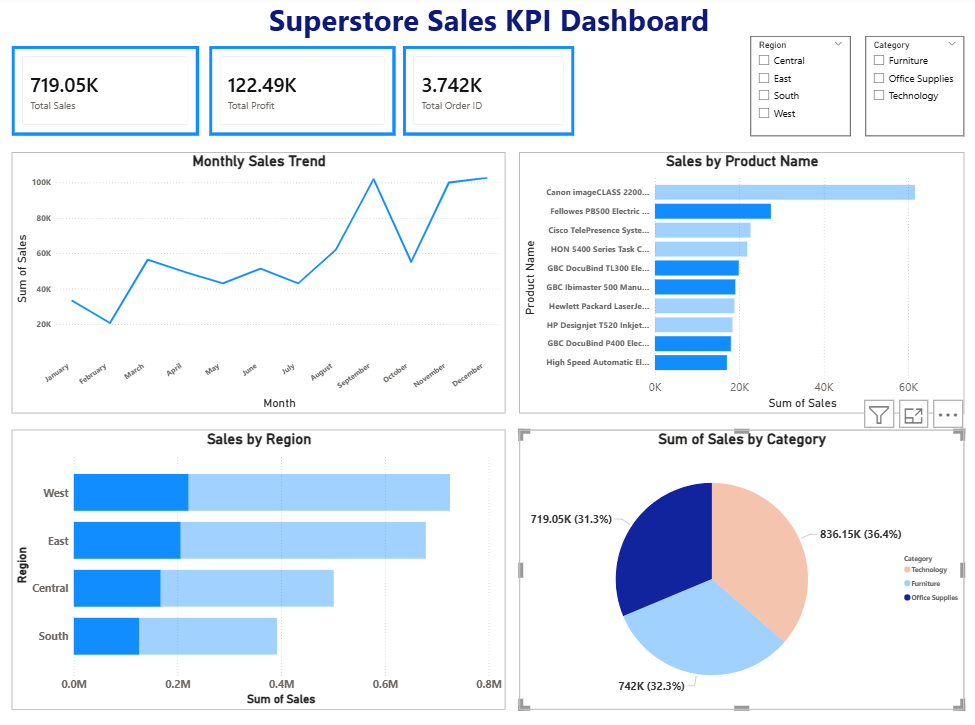

The page's visual inventory and layout, read from the dashboard file:
{"tool":"powerbi","page":{"name":"Page 1","canvas":[1600,1200],"ordinal":0},"visuals":[{"type":"cardVisual","title":"sales Card","fields":{"Data":["Sum(Sample - Superstore.Sales)"]},"box":[22.4,81.5,305.7,146.7],"z":0},{"type":"cardVisual","fields":{"Data":["Sum(Sample - Superstore.Profit)"]},"box":[344.4,81.5,303.7,146.7],"z":1000},{"type":"cardVisual","fields":{"Data":["Count(Sample - Superstore.Order ID)"]},"box":[660.3,81.5,279.2,146.7],"z":2000},{"type":"lineChart","title":" Monthly Sales Trend","fields":{"Y":["Sum(Sample - Superstore.Sales)"],"Category":["Sample - Superstore.Order Date.Variation.Date Hierarchy.Year","Sample - Superstore.Order Date.Variation.Date Hierarchy.Month"]},"box":[22.4,254.8,805,426],"z":3000},{"type":"clusteredBarChart","title":"Sales by Region","fields":{"Category":["Sample - Superstore.Region"],"Y":["Sum(Sample - Superstore.Sales)"]},"box":[22.4,707.2,805,456.5],"z":4000},{"type":"pieChart","fields":{"Category":["Sample - Superstore.Category"],"Y":["Sum(Sample - Superstore.Sales)"]},"box":[849.9,707.2,725.5,456.5],"z":5000},{"type":"clusteredBarChart","title":"Sales by Product Name","fields":{"Category":["Sample - Superstore.Product Name"],"Y":["Sum(Sample - Superstore.Sales)"]},"box":[849.9,254.8,725.5,426],"z":7000},{"type":"slicer","fields":{"Values":["Sample - Superstore.Category"]},"box":[1414.4,65.2,161,163],"z":8000},{"type":"textbox","box":[339.4,0,921.2,81.5],"z":9000},{"type":"slicer","fields":{"Values":["Sample - Superstore.Region"]},"box":[1226.9,65.2,163,163],"z":9001}]}

Visuals, with their boxes in screenshot pixels (x1, y1, x2, y2), scaled from the page's 1600x1200 canvas onto the 975x725 screenshot:
"sales Card" cardVisual: bbox=(14, 49, 200, 138)
cardVisual - Sum(Sample - Superstore.Profit): bbox=(210, 49, 395, 138)
cardVisual - Count(Sample - Superstore.Order ID): bbox=(402, 49, 573, 138)
" Monthly Sales Trend" lineChart: bbox=(14, 154, 504, 411)
"Sales by Region" clusteredBarChart: bbox=(14, 427, 504, 703)
pieChart - Sample - Superstore.Category x Sum(Sample - Superstore.Sales): bbox=(518, 427, 960, 703)
"Sales by Product Name" clusteredBarChart: bbox=(518, 154, 960, 411)
slicer - Sample - Superstore.Category: bbox=(862, 39, 960, 138)
textbox: bbox=(207, 0, 768, 49)
slicer - Sample - Superstore.Region: bbox=(748, 39, 847, 138)
